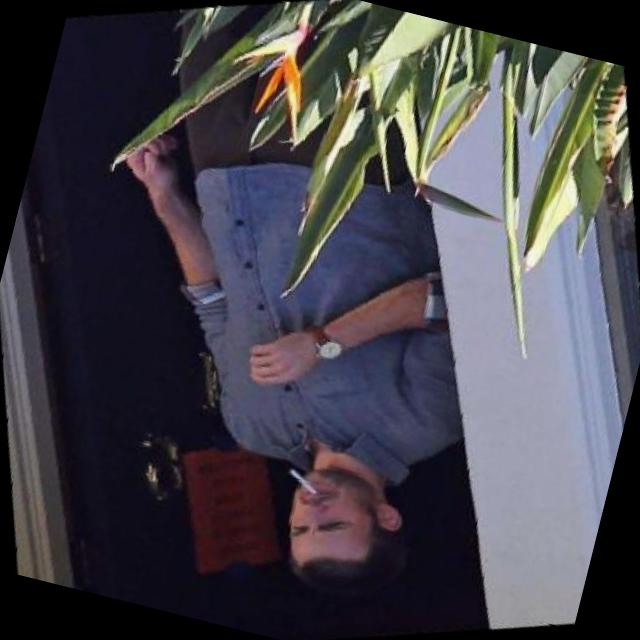cigarette: (280, 456, 327, 503)
